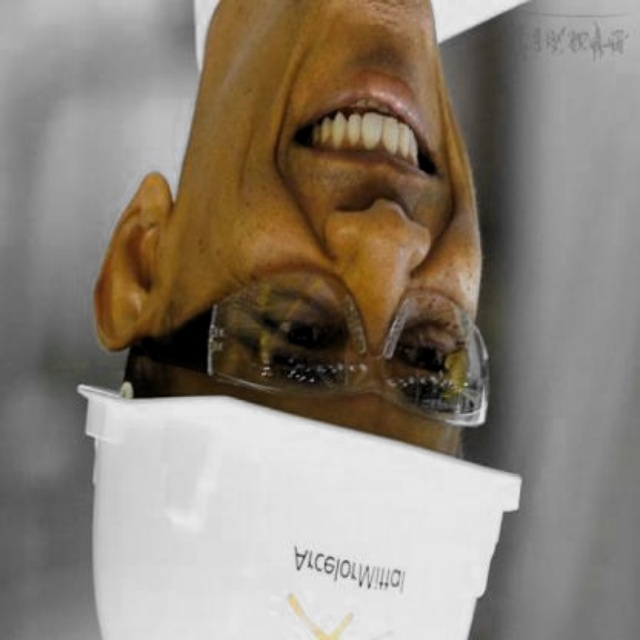glass: (151, 262, 498, 433)
white-helm: (73, 378, 532, 638)
